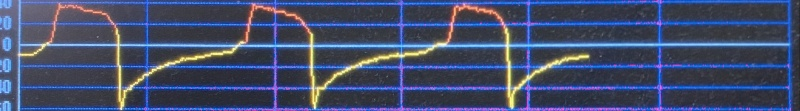normal_flow: (11, 0, 603, 111)
